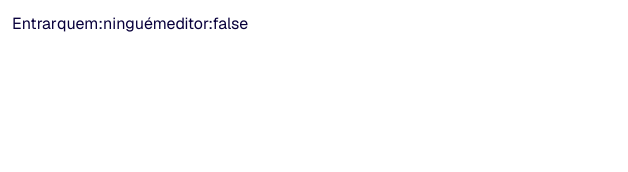
Test: AuthProvider › refuses an unsupported authentication method
Click the button "Entrar".
click(34, 24)  # box left=12, top=12, right=57, bottom=36
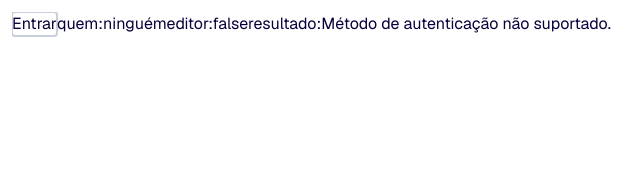
Check: the text "resultado:Método de autenticação não suportado." is shown, box left=248, top=13, right=611, bottom=34
